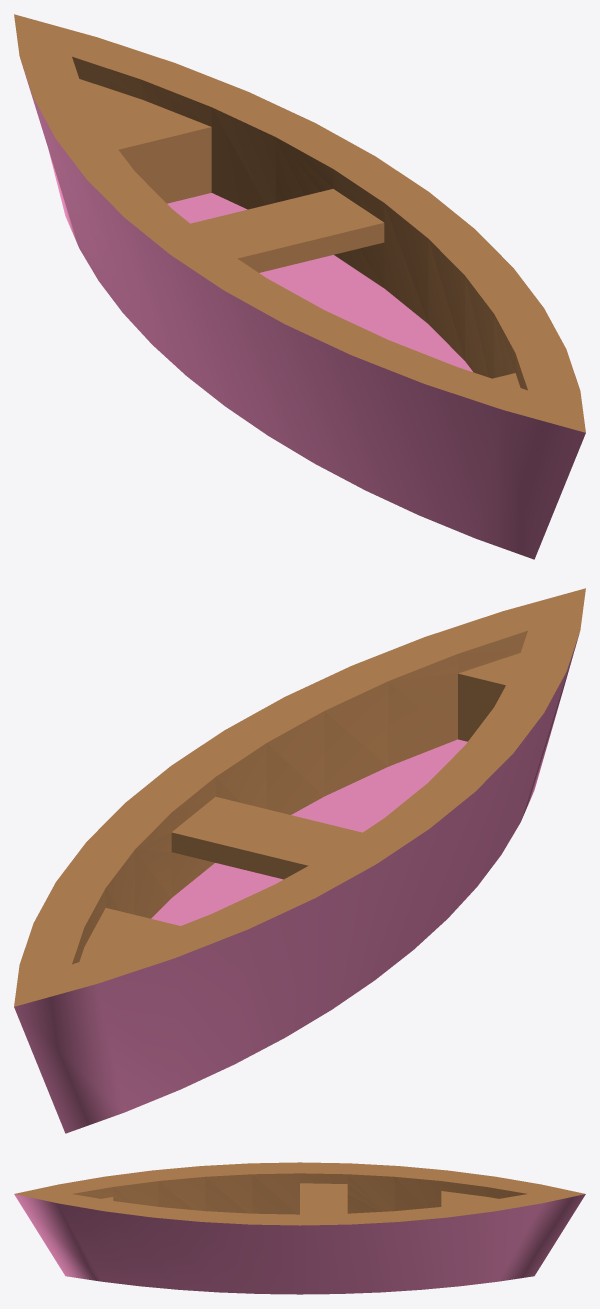
Rendered from canoe.glb.
The picture shows the model from 3 angles, top to bottom: view 1: azimuth 30°, elevation 25°; view 2: azimuth 150°, elevation 25°; view 3: azimuth 270°, elevation 25°; orthographic projection. The views are drawn at different scales.
Parts seen in each view (by area): view 1: canoe; view 2: canoe; view 3: canoe.
Part boxes in pixels (bbox=[...]): canoe: bbox=[14, 14, 585, 559]; canoe: bbox=[14, 588, 585, 1133]; canoe: bbox=[14, 1162, 585, 1294].
Bounding box in the file's own units: 0.51 × 0.3103 × 1.96.
